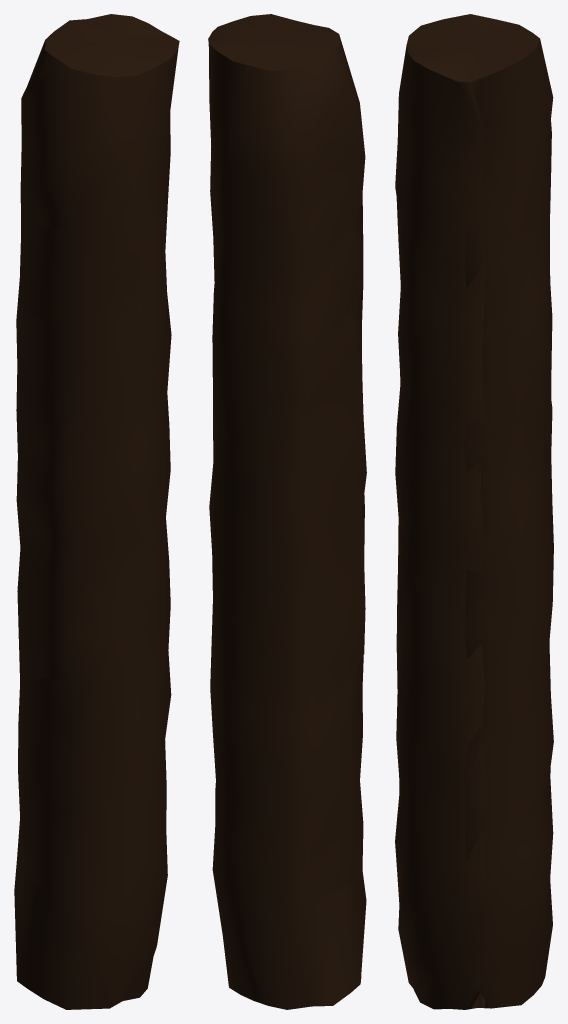
File: tallColumn.fbx
3 views of the same model, side by side, from view 1: azimuth 30°, elevation 25°; view 2: azimuth 150°, elevation 25°; view 3: azimuth 270°, elevation 25° (orthographic). The views are drawn at different scales.
Visible parts, largest first — view 1: pCylinder1; view 2: pCylinder1; view 3: pCylinder1.
Part boxes in pixels (x1=…): pCylinder1: x1=14, y1=14, x2=179, y2=1009; pCylinder1: x1=208, y1=14, x2=366, y2=1009; pCylinder1: x1=395, y1=14, x2=553, y2=1009.
Size of the model in its own units: 99.58 by 628 by 93.95.
